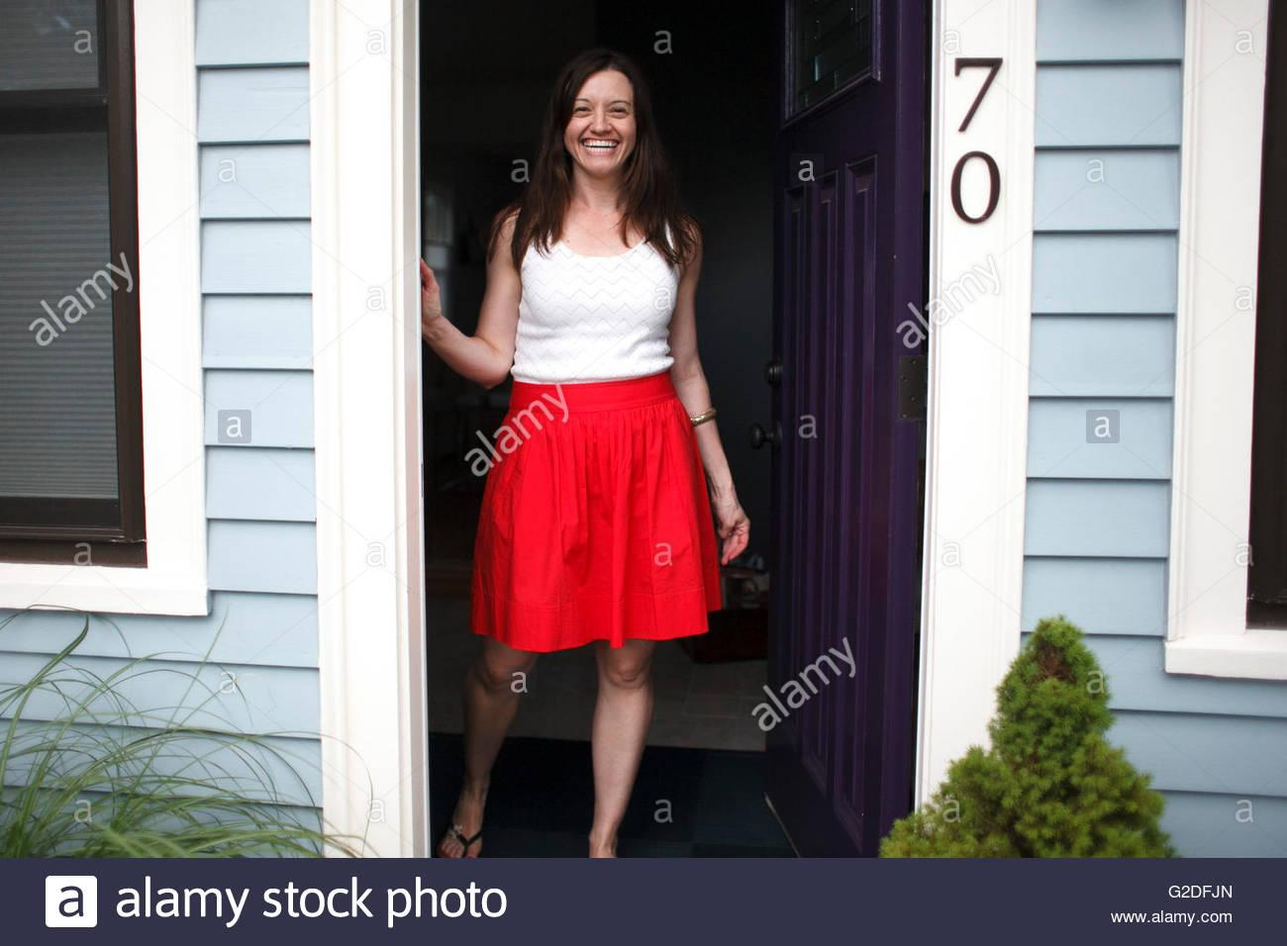FallenBody: (397, 13, 783, 858)
